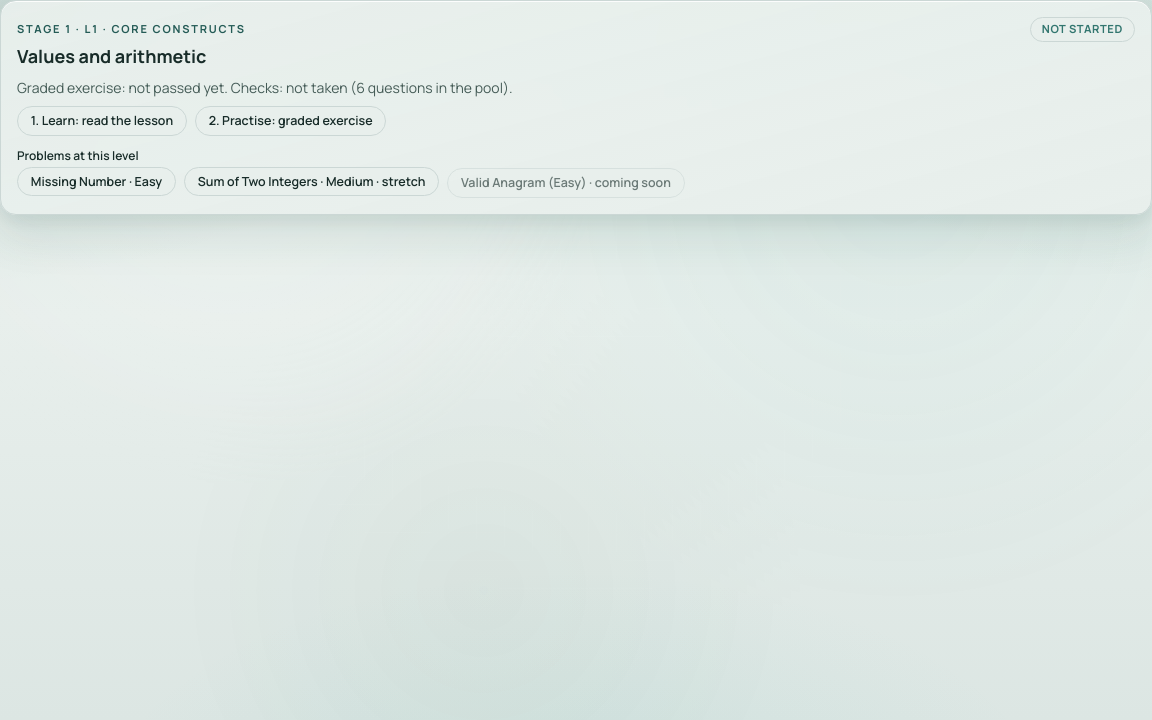
it: NodeCard › shows learn-then-practise steps and toggles the lesson
Expected: the text "Stage 1 · L1 · Core constructs" is shown, [17,21,246,38]
Expected: the text "Graded exercise: not passed yet. Checks: not taken (6 questions" is shown, [17,78,512,97]
What coordinates should you click on to do the following:
click the button "1. Learn: read the lesson"
I would click on:
 (102, 121)
Its box is [17,106,187,136].
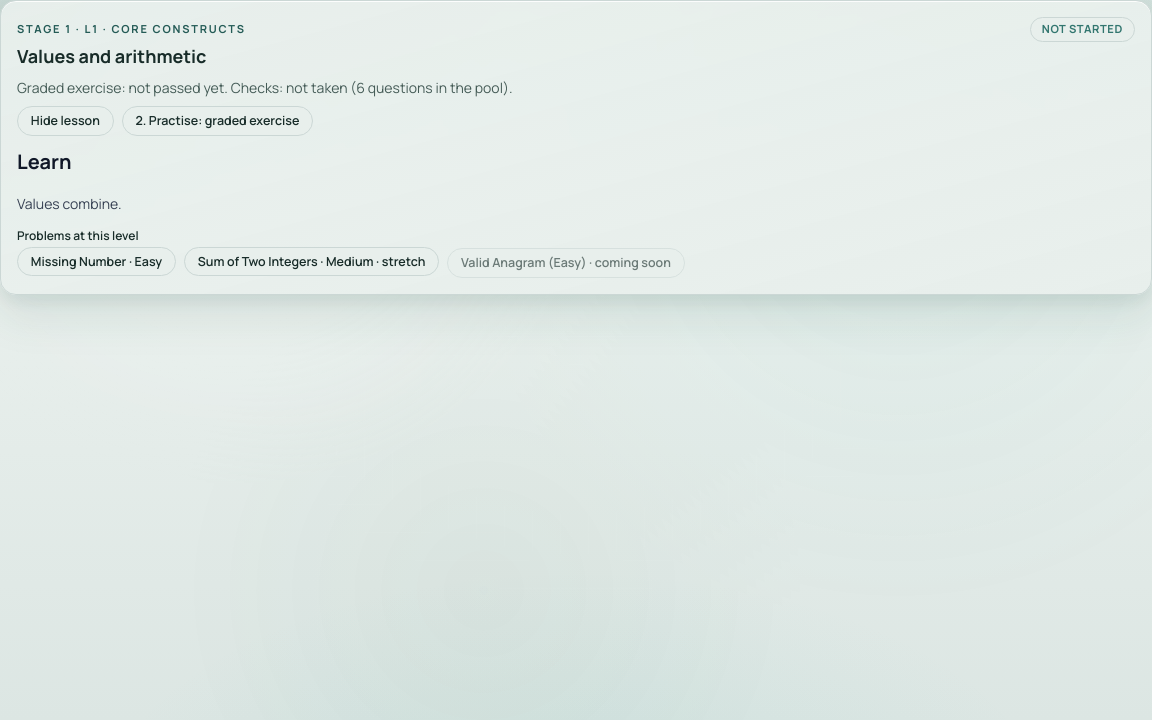
Result: the text "Values combine." is shown at [17,194,122,213]
What coordinates should you click on to do the following:
click the button "Hide lesson"
I would click on:
 (65, 121)
Its box is [17,106,114,136].
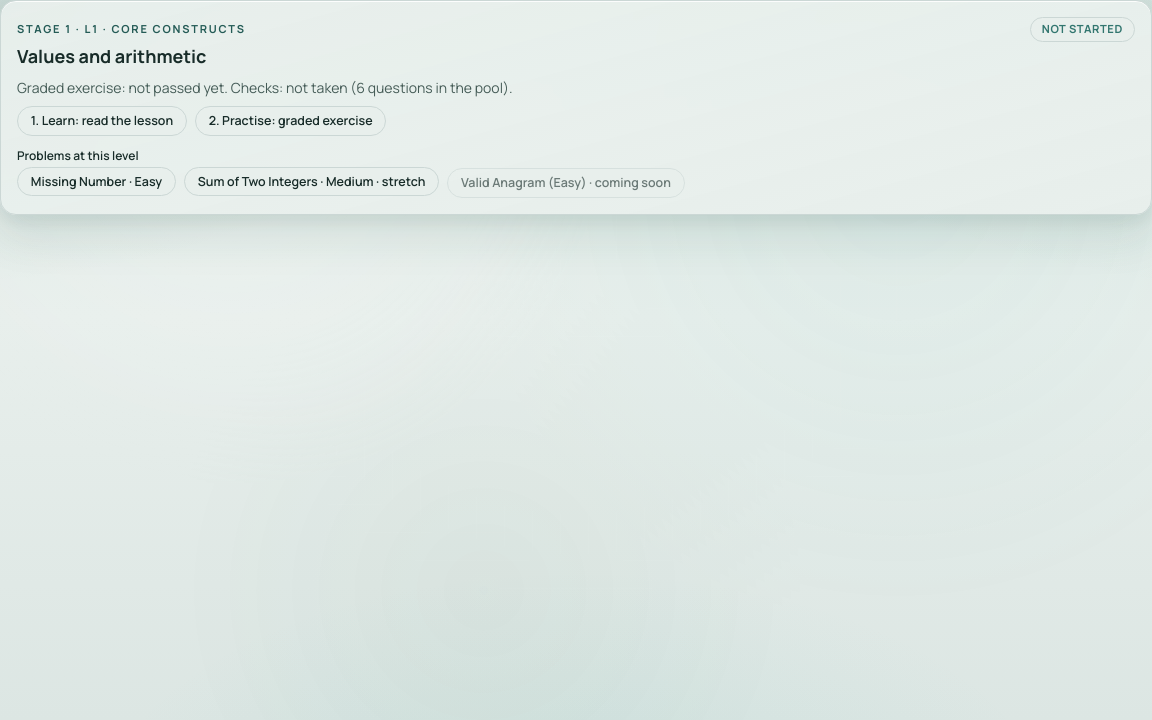
Result: the text "Values combine." is gone
